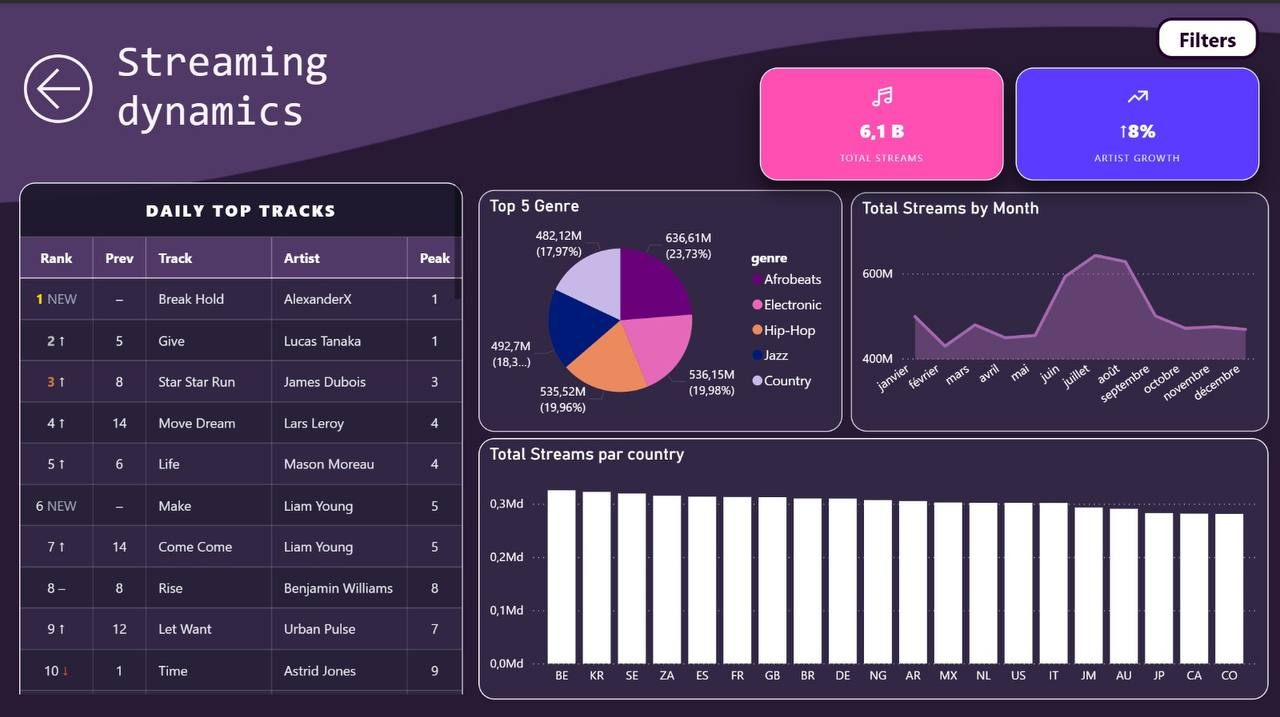

What the dashboard file says about the page in this screenshot:
{"tool":"powerbi","page":{"name":"Streaming Dynamics","canvas":[1280,720],"ordinal":2},"visuals":[{"type":"areaChart","title":"Total Streams by Month","fields":{"Category":["Date.Date.Variation.Hiérarchie de dates.Trimestre","Date.Date.Variation.Hiérarchie de dates.Mois1","Date.Date.Variation.Hiérarchie de dates.Jour"],"Y":["_Measures.Total Streams"]},"box":[850.5,189,417.3,239.3],"z":0},{"type":"pieChart","title":"Top 5 Genre","fields":{"Category":["Tracks.genre"],"Y":["daily_streams.Total Streams"]},"box":[478.6,186.5,363.3,241.8],"z":1000},{"type":"textbox","box":[112.5,28.8,423.8,113.8],"z":2000},{"type":"clusteredColumnChart","fields":{"Category":["daily_streams.country"],"Y":["_Measures.Total Streams"]},"box":[478.6,435.7,789.1,261.4],"z":4000},{"type":"htmlContent443BE3AD55E043BF878BED274D3A6865","fields":{"content":["_Measures.Streaming dynamics"]},"box":[732,40,548,171.2],"z":5000},{"type":"htmlContent443BE3AD55E043BF878BED274D3A6865","fields":{"content":["_Measures.Weekly Chart HTML Table"]},"box":[14.7,174.3,452.8,521.6],"z":6000},{"type":"actionButton","box":[15.7,42.8,99.9,85.6],"z":7000},{"type":"actionButton","box":[1155,15,102.5,41.2],"z":7500}]}

Visuals, with their boxes in screenshot pixels (x1, y1, x2, y2), scaled from the page's 1280x720 canvas onto the 1280x717 screenshot:
"Total Streams by Month" areaChart: 850/188/1268/427
"Top 5 Genre" pieChart: 479/186/842/427
textbox: 112/29/536/142
clusteredColumnChart - daily_streams.country x _Measures.Total Streams: 479/434/1268/694
htmlContent443BE3AD55E043BF878BED274D3A6865 - _Measures.Streaming dynamics: 732/40/1279/210
htmlContent443BE3AD55E043BF878BED274D3A6865 - _Measures.Weekly Chart HTML Table: 15/174/468/693
actionButton: 16/43/116/128
actionButton: 1155/15/1258/56
